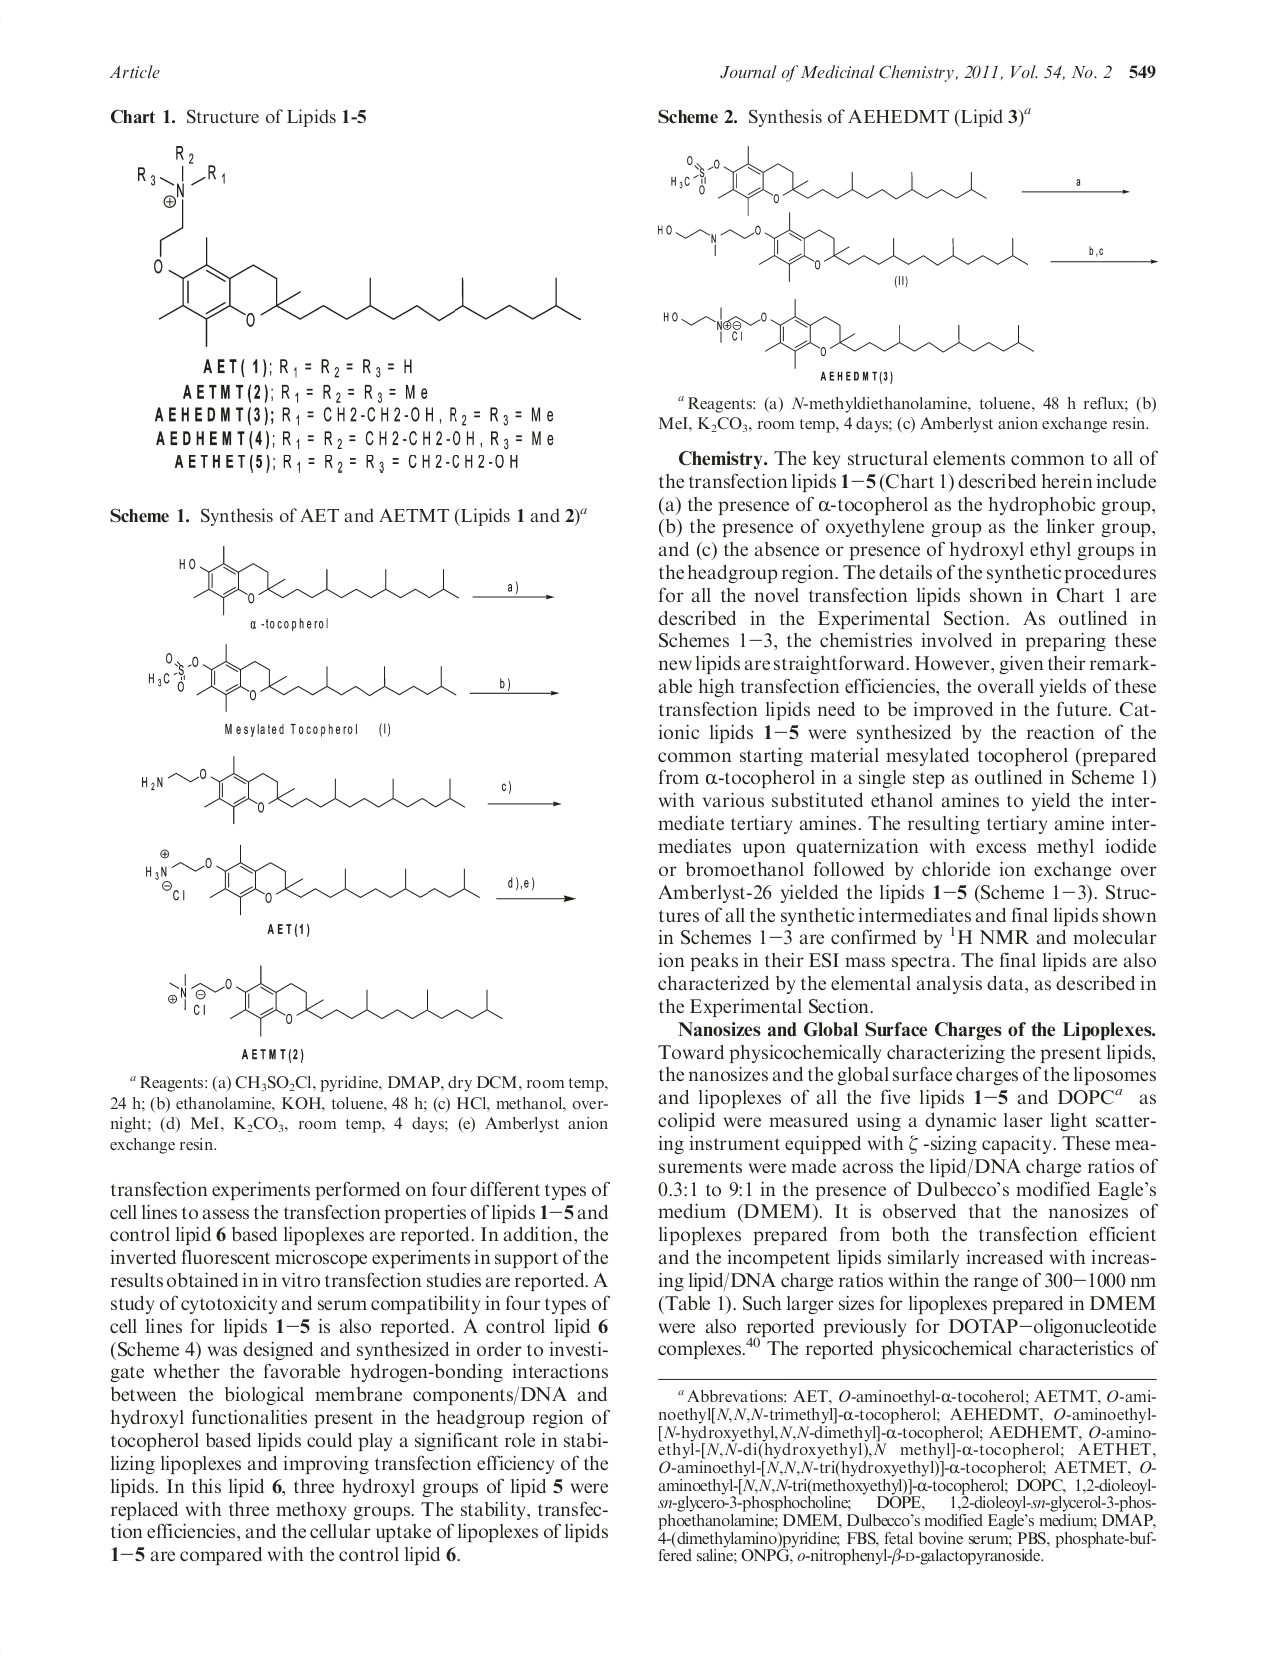exist_molecular: (130, 140, 590, 350), (653, 207, 1032, 283), (661, 297, 1047, 370), (165, 960, 507, 1040), (144, 840, 485, 918), (140, 751, 469, 829), (668, 142, 991, 215), (146, 644, 461, 714), (177, 543, 461, 618)
